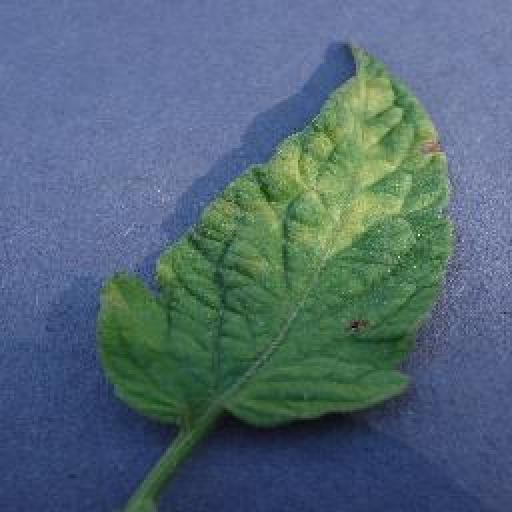Leaf Mold: (98, 35, 456, 429)
